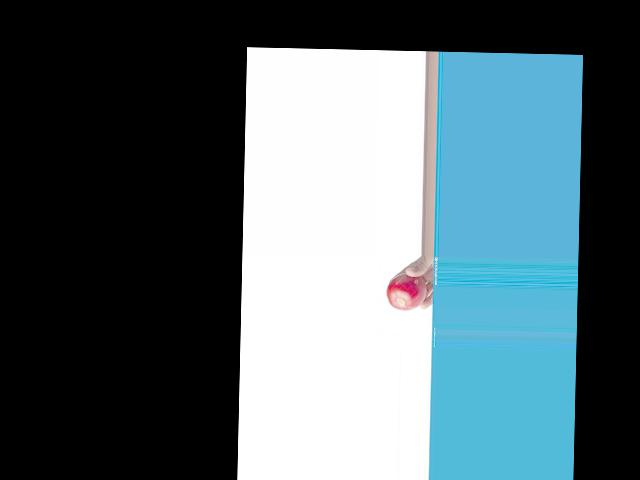tomato: (386, 272, 427, 311)
